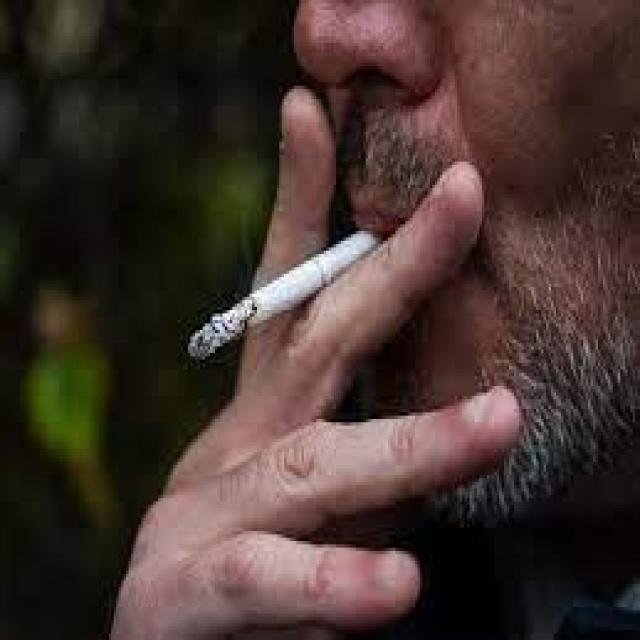cigarette: (190, 231, 383, 360)
